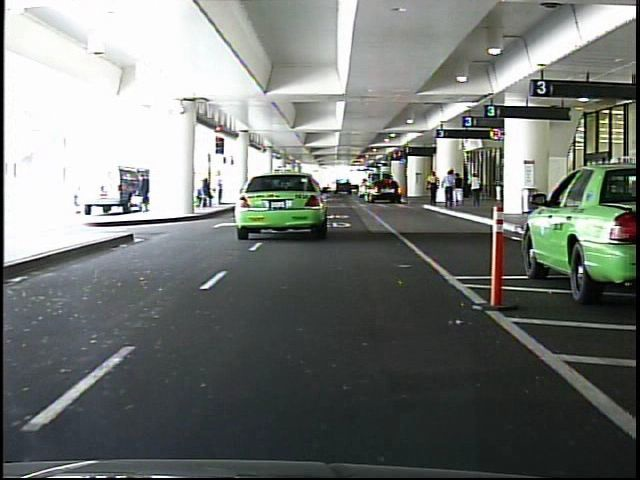person: (467, 168, 487, 212), (440, 166, 457, 212), (425, 166, 442, 209), (454, 172, 466, 212)
